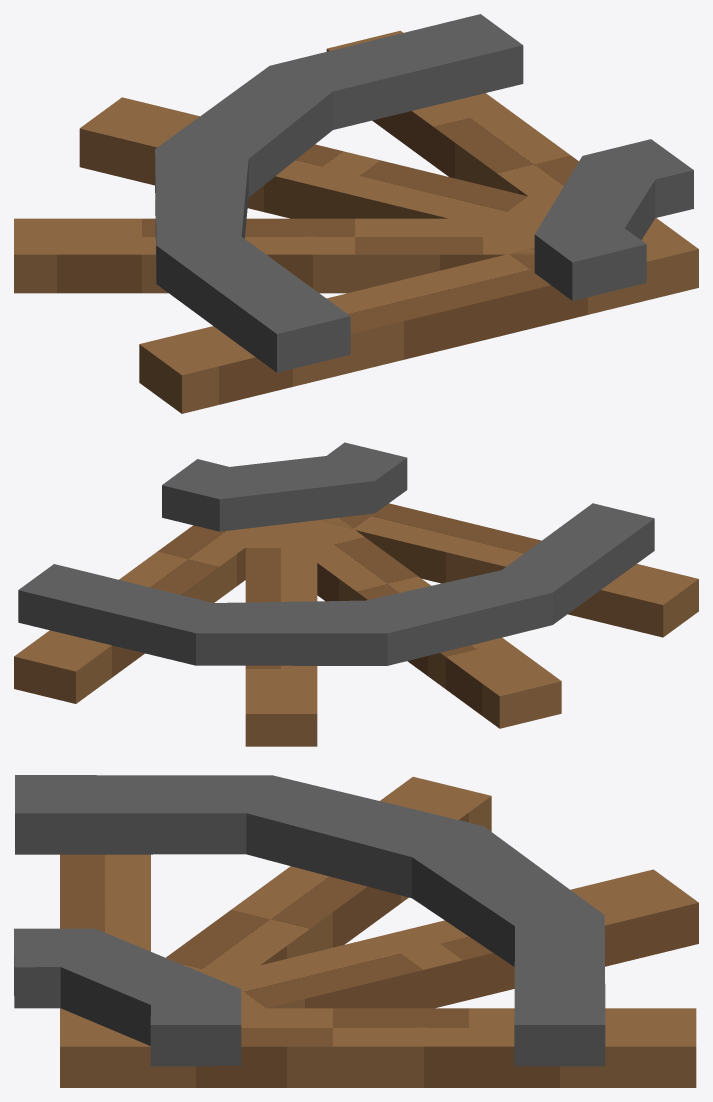
File: Rail_Ro2.obj
3 views of the same model, one above another, from view 1: azimuth 30°, elevation 25°; view 2: azimuth 150°, elevation 25°; view 3: azimuth 270°, elevation 25° (orthographic). The views are drawn at different scales.
Visible parts, largest first — view 1: mesh, tube; view 2: tube, mesh; view 3: mesh, tube.
Part boxes in pixels (x1,y1,x2,y2): mesh: (14, 30, 698, 413); tube: (155, 14, 693, 372); tube: (18, 442, 654, 665); mesh: (14, 503, 698, 746); mesh: (60, 776, 698, 1087); tube: (14, 775, 605, 1066).
Bounding box in the file's own units: 0.9425 × 0.125 × 0.9422.
